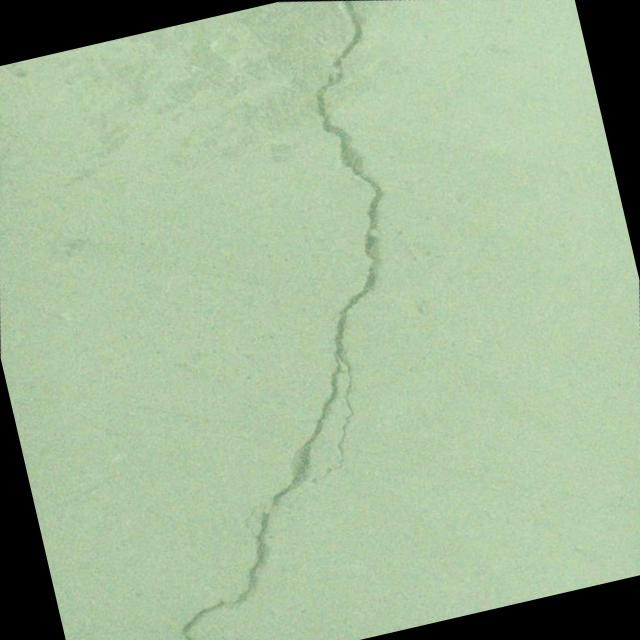crack: (44, 0, 519, 640), (0, 103, 229, 228)
